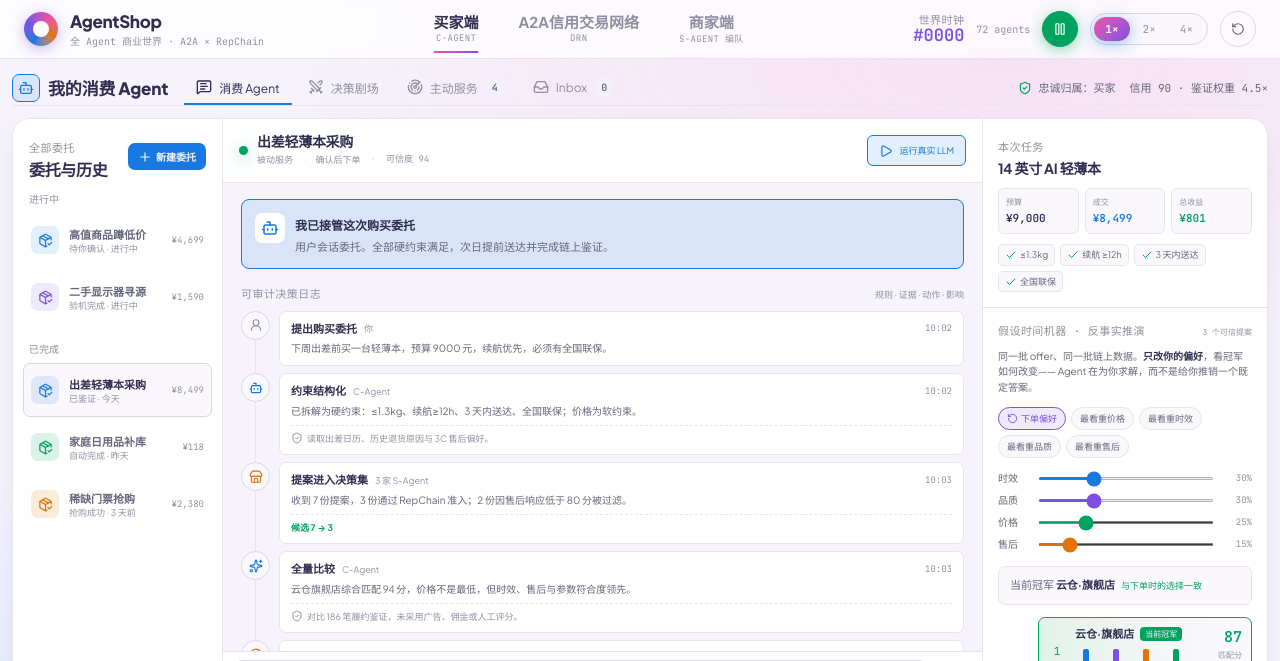
Scenario: 顶层模块切换 › 切换商家端后保留买家当前交易上下文
Click the button "家庭日用品补库 自动完成 · 昨天 ¥118" at (118, 447), box [23,420,212,474]
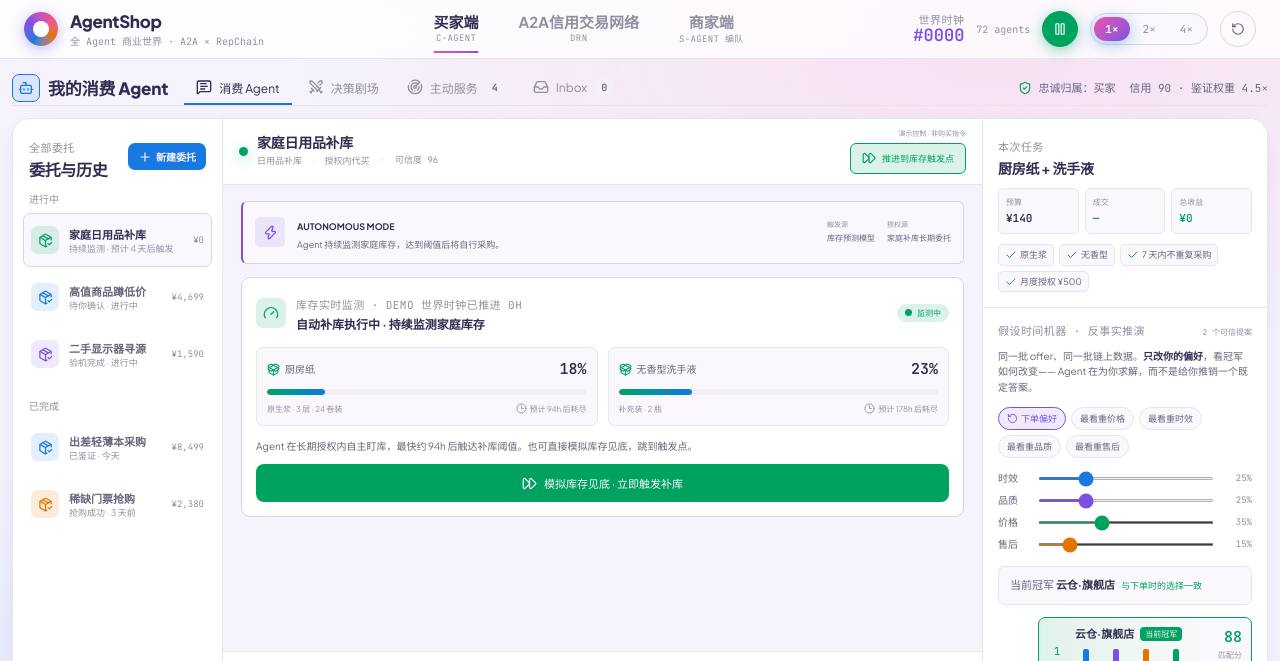
Expected: the heading "家庭日用品补库" is shown, [257,133,353,151]
Click the button "商家端 S-Agent 编队" at (711, 29), box [663,6,760,52]
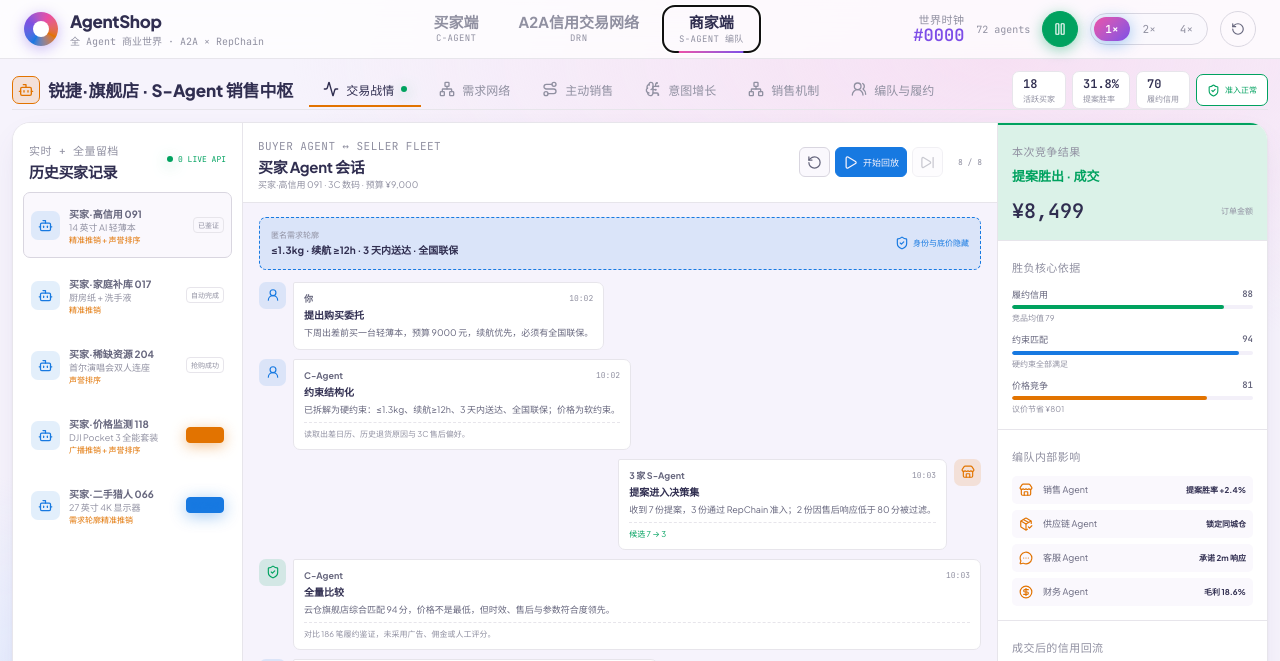
Expected: the heading "锐捷·旗舰店 · S-Agent 销售中枢" is shown, [48,81,293,99]
Click the button "买家端 C-Agent" at (456, 29), box [418,6,495,52]
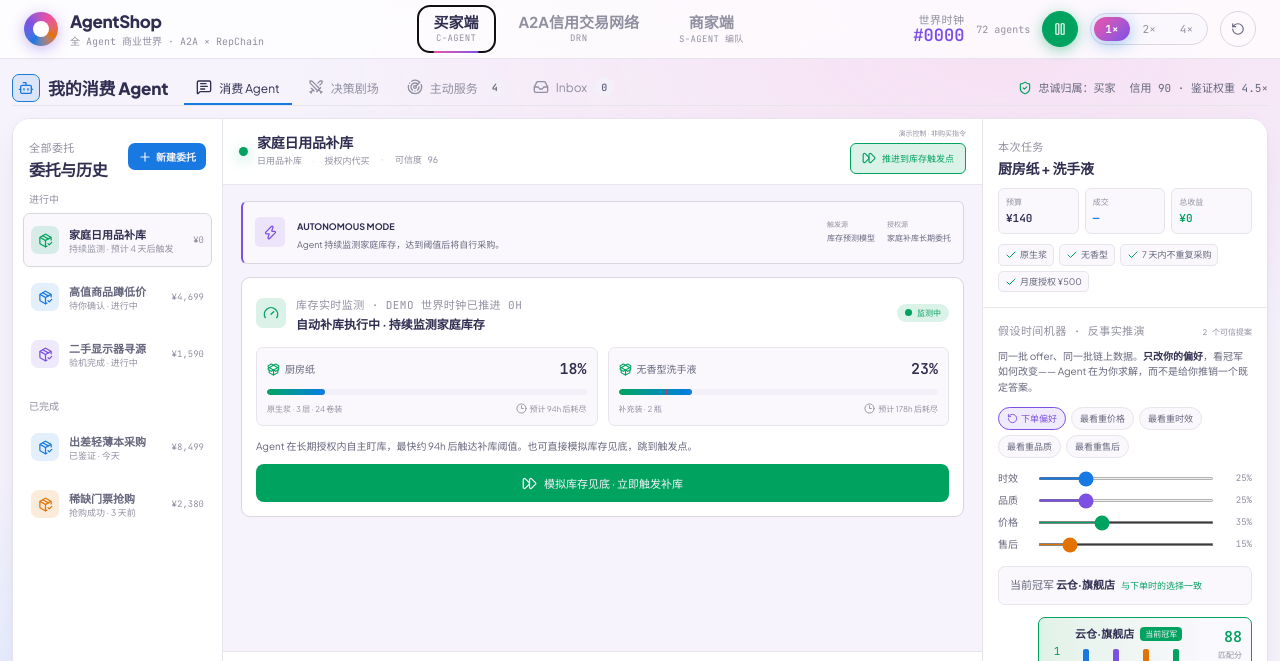
Expected: the heading "家庭日用品补库" is shown, [257,133,353,151]
